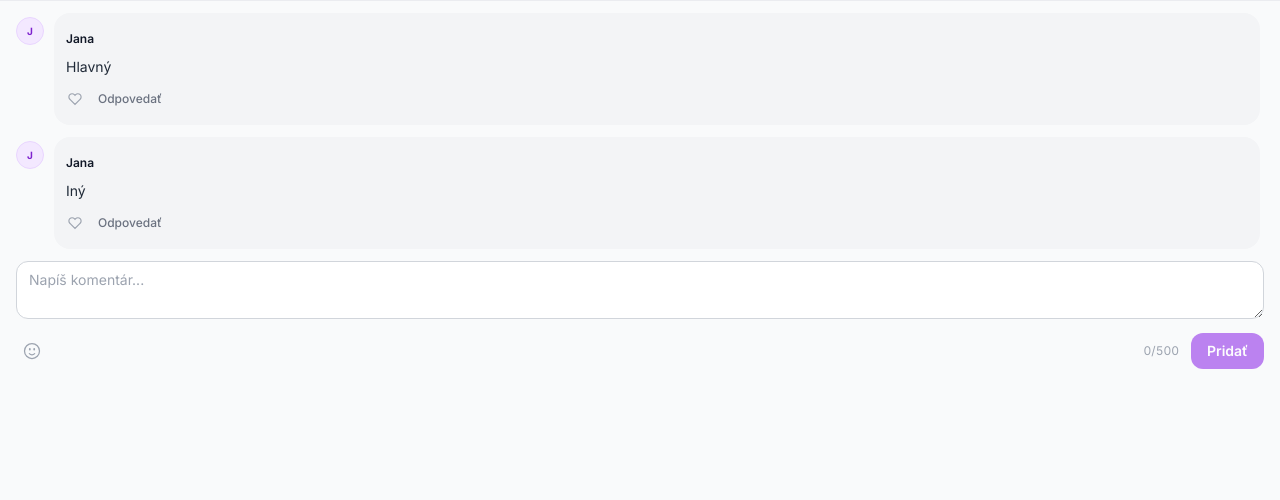
Test: posts a reply under the right parent and shows it nested
Check: the text "Hlavný" is shown, box [66,58,111,75]
Click the button with test id "feed-comment-reply-1".
click(130, 99)  # box [92,81,168,117]
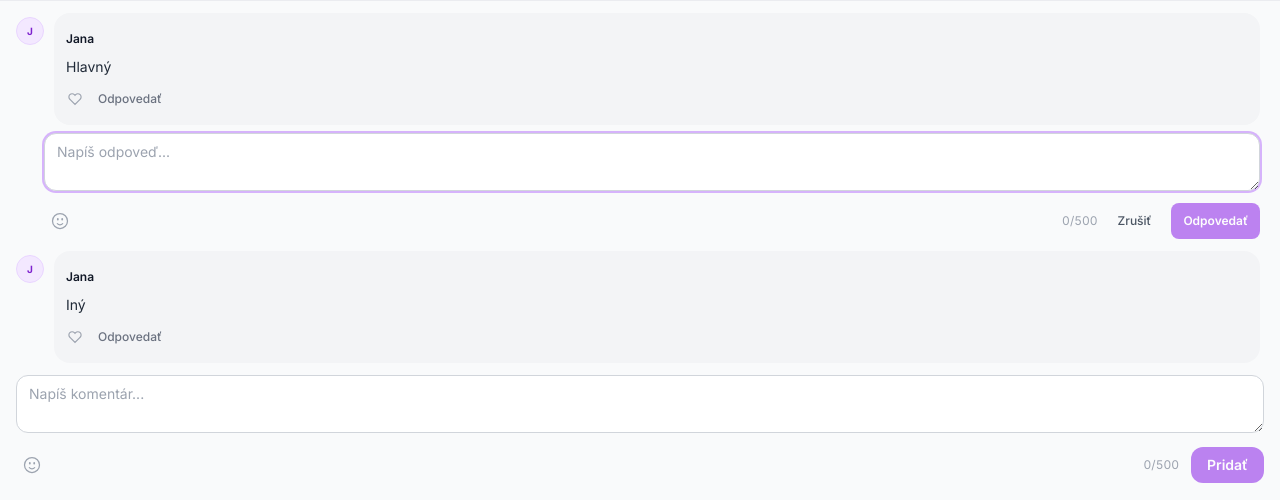
Type "Moja odpoveď" into the text box with placeholder "Napíš odpoveď...".
click(652, 162); type("Moja odpoveď")  # box [44,133,1260,191]
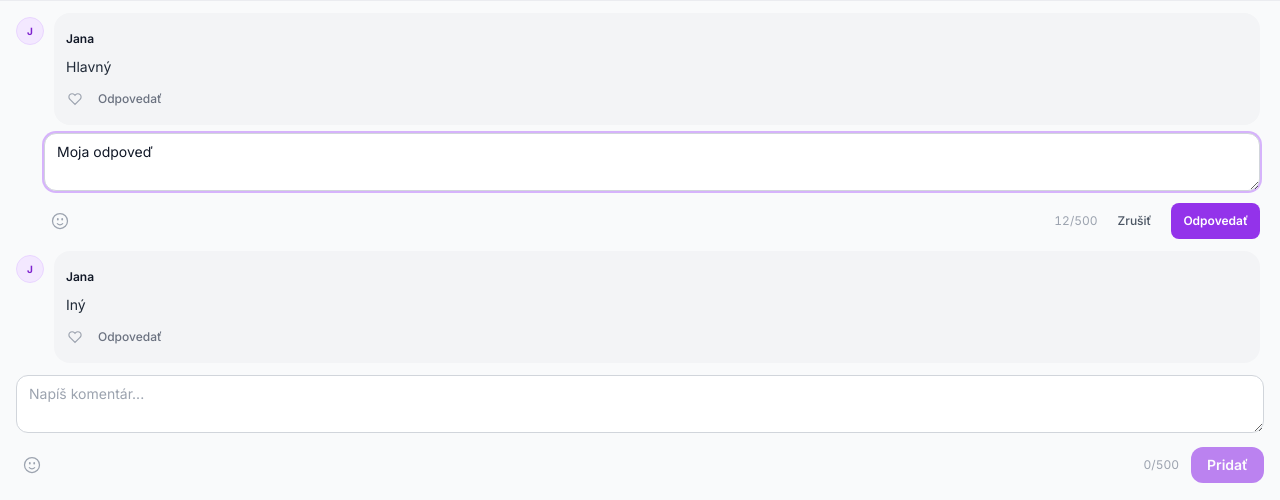
Click the button with test id "feed-reply-submit".
click(1216, 221)  # box [1171,203,1260,239]
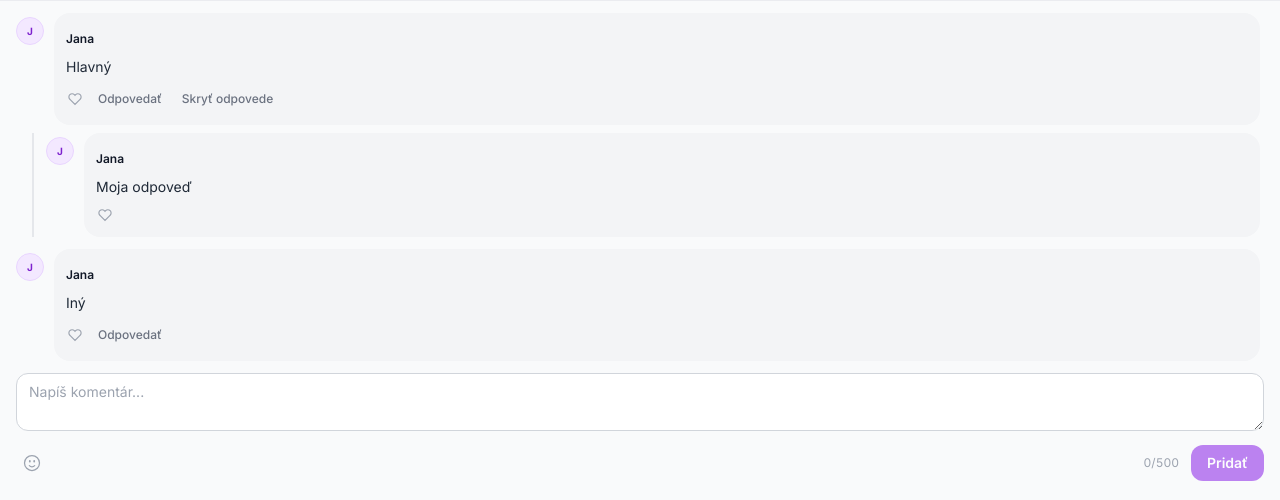
Check: the text "Moja odpoveď" is shown, box [96,178,192,195]
Check: the element with test id "feed-reply-composer" is gone
